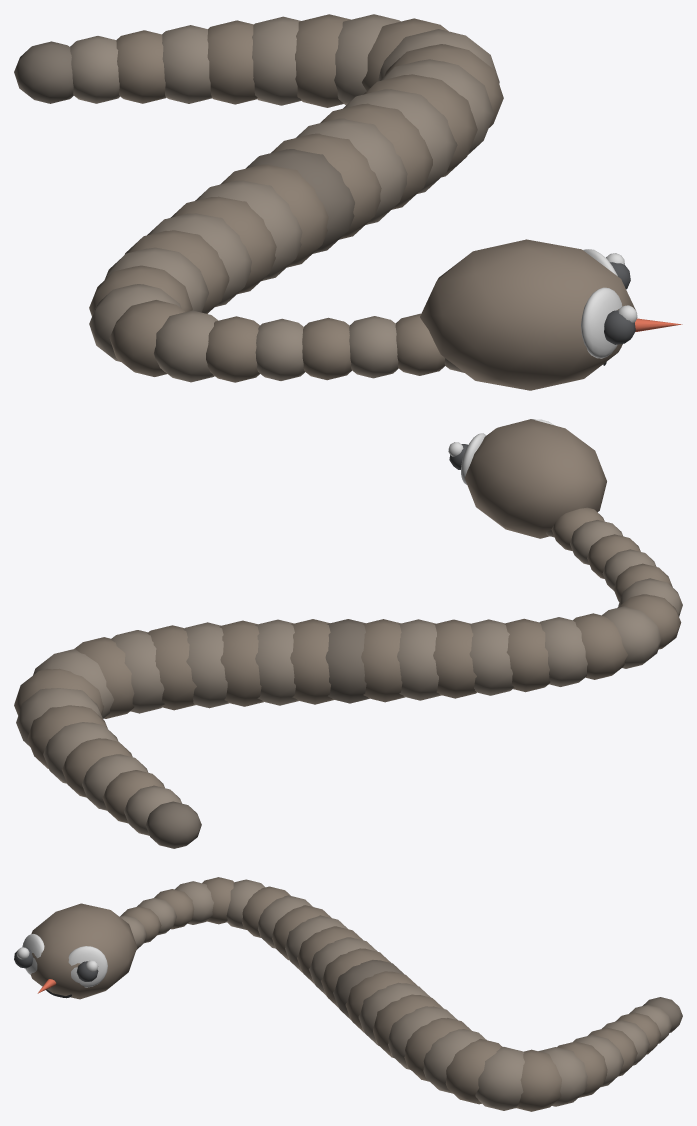
Rendered from cyclocorus-lineatus.glb.
The picture shows the model from 3 angles, top to bottom: view 1: azimuth 30°, elevation 25°; view 2: azimuth 150°, elevation 25°; view 3: azimuth 270°, elevation 25°; orthographic projection. The views are drawn at different scales.
Parts seen in each view (by area): view 1: body, head, face-eye-r, face-pupil-r; view 2: body, head; view 3: body, head, face-eye-l, face-eye-r.
Part boxes in pixels (x1=…): body: x1=14, y1=14, x2=503, y2=382; head: x1=420, y1=239, x2=635, y2=390; face-eye-r: x1=581, y1=287, x2=622, y2=358; face-pupil-r: x1=604, y1=310, x2=635, y2=344; body: x1=14, y1=507, x2=682, y2=848; head: x1=464, y1=419, x2=606, y2=538; body: x1=120, y1=877, x2=682, y2=1111; head: x1=30, y1=903, x2=137, y2=999; face-eye-l: x1=68, y1=946, x2=107, y2=987; face-eye-r: x1=22, y1=934, x2=44, y2=974.
Bounding box in the file's own units: 0.6552 × 0.2067 × 1.02.
